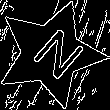N_SW: (18, 22, 83, 86)
